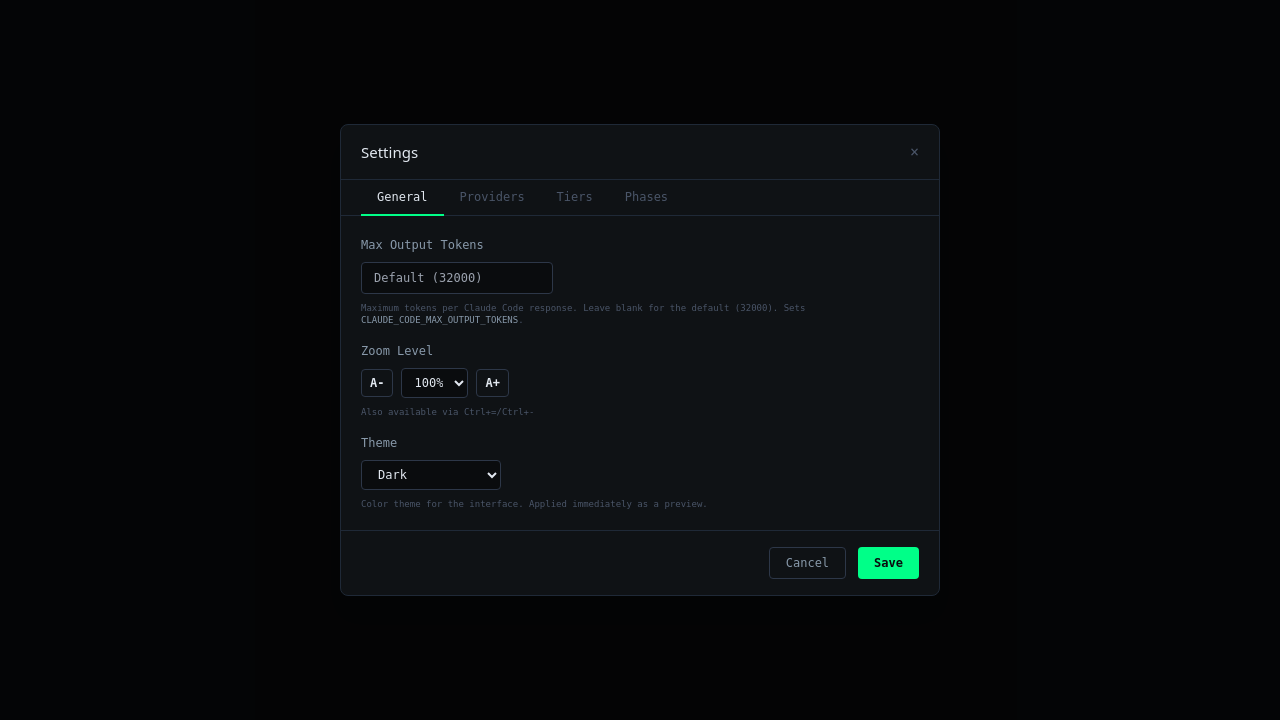
SettingsDialog › toggles a custom phase back to tier mode
This screenshot has width=1280, height=720.
Expected: the element with test id "tab-general" is shown, [361,238,805,509]
What coordinates should you click on to do the following:
click the button "Phases"
I would click on:
 (646, 198)
Its box is [609,180,684,216].
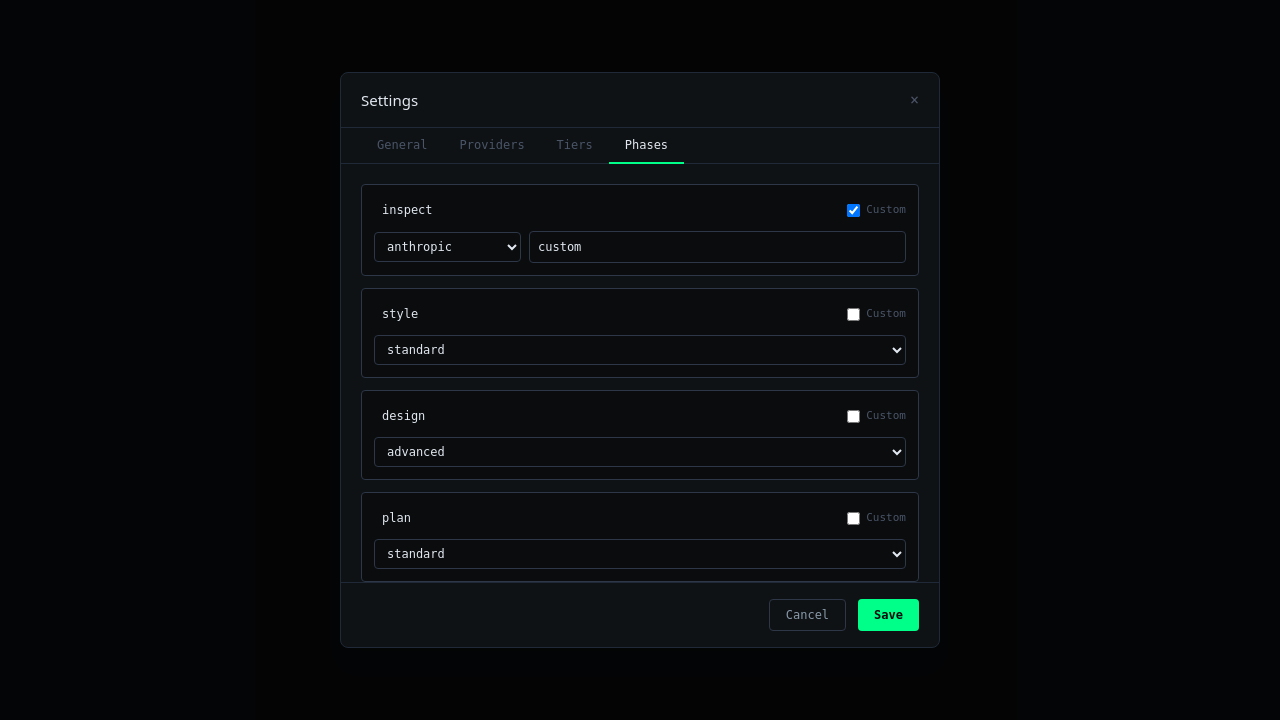
Expected: the dropdown with test id "phase-provider-inspect" is shown, [374,232,521,262]
// Toggle back to tier mode (uncheck custom)
What coordinates should you click on to do the following:
click the checkbox with test id "phase-custom-toggle-inspect"
I would click on:
 (854, 210)
Its box is [847,204,860,216].
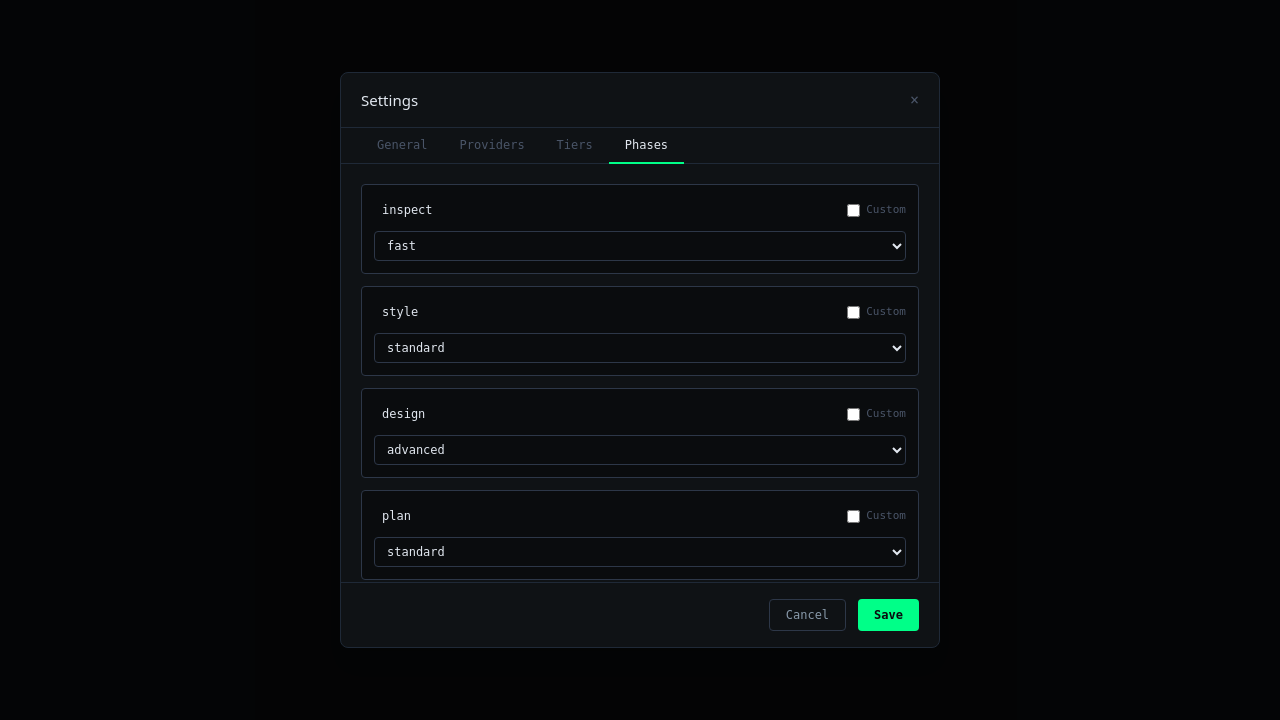
Expected: the dropdown with test id "phase-tier-inspect" is shown, [374,231,906,261]
